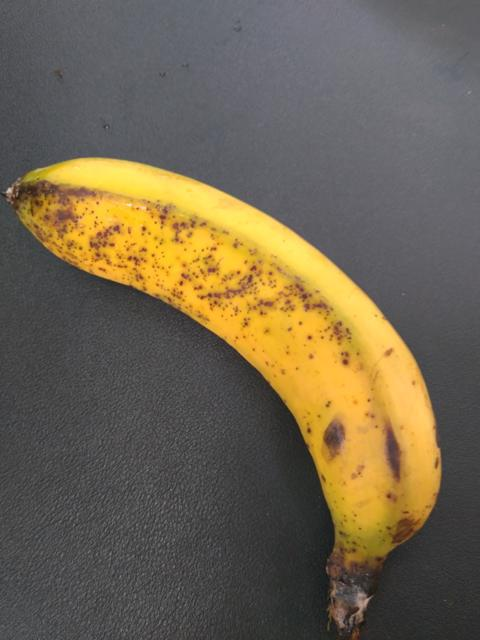ripe: (11, 137, 468, 593)
